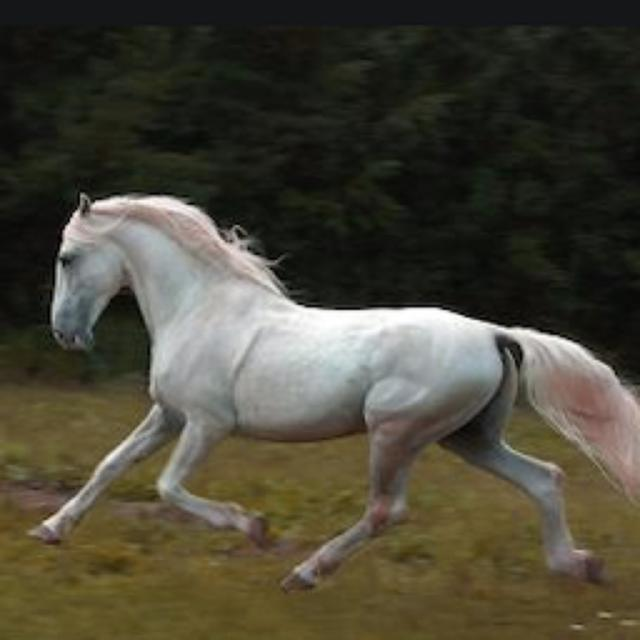Horse: (20, 182, 640, 598)
